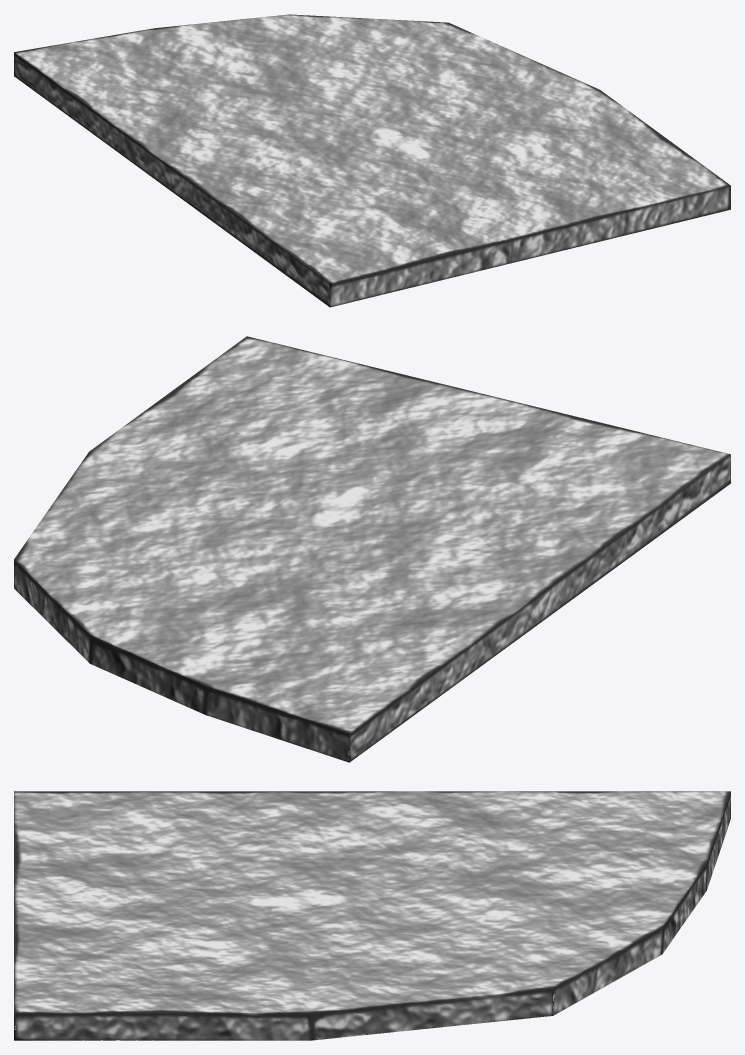
Rendered from small_metal_plate.fbx.
3 renders of one model, top to bottom at view 1: azimuth 30°, elevation 25°; view 2: azimuth 150°, elevation 25°; view 3: azimuth 270°, elevation 25°, orthographic. The views are drawn at different scales.
Parts seen in each view (by area): view 1: small_metal_plate; view 2: small_metal_plate; view 3: small_metal_plate.
Part boxes in pixels (x1,y1,x2,y2): small_metal_plate: [14, 14, 730, 307]; small_metal_plate: [14, 336, 730, 762]; small_metal_plate: [14, 791, 730, 1040].
Size of the model in its own units: 19.11 by 1.1 by 26.09.
